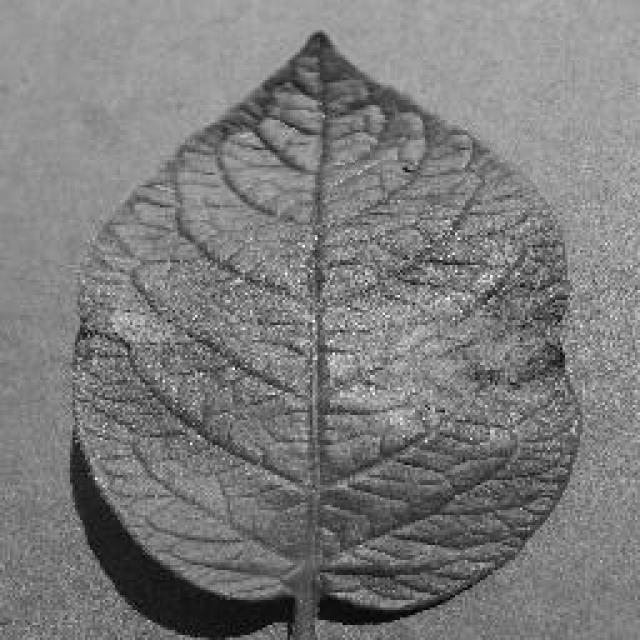Potato: (68, 28, 582, 632)
